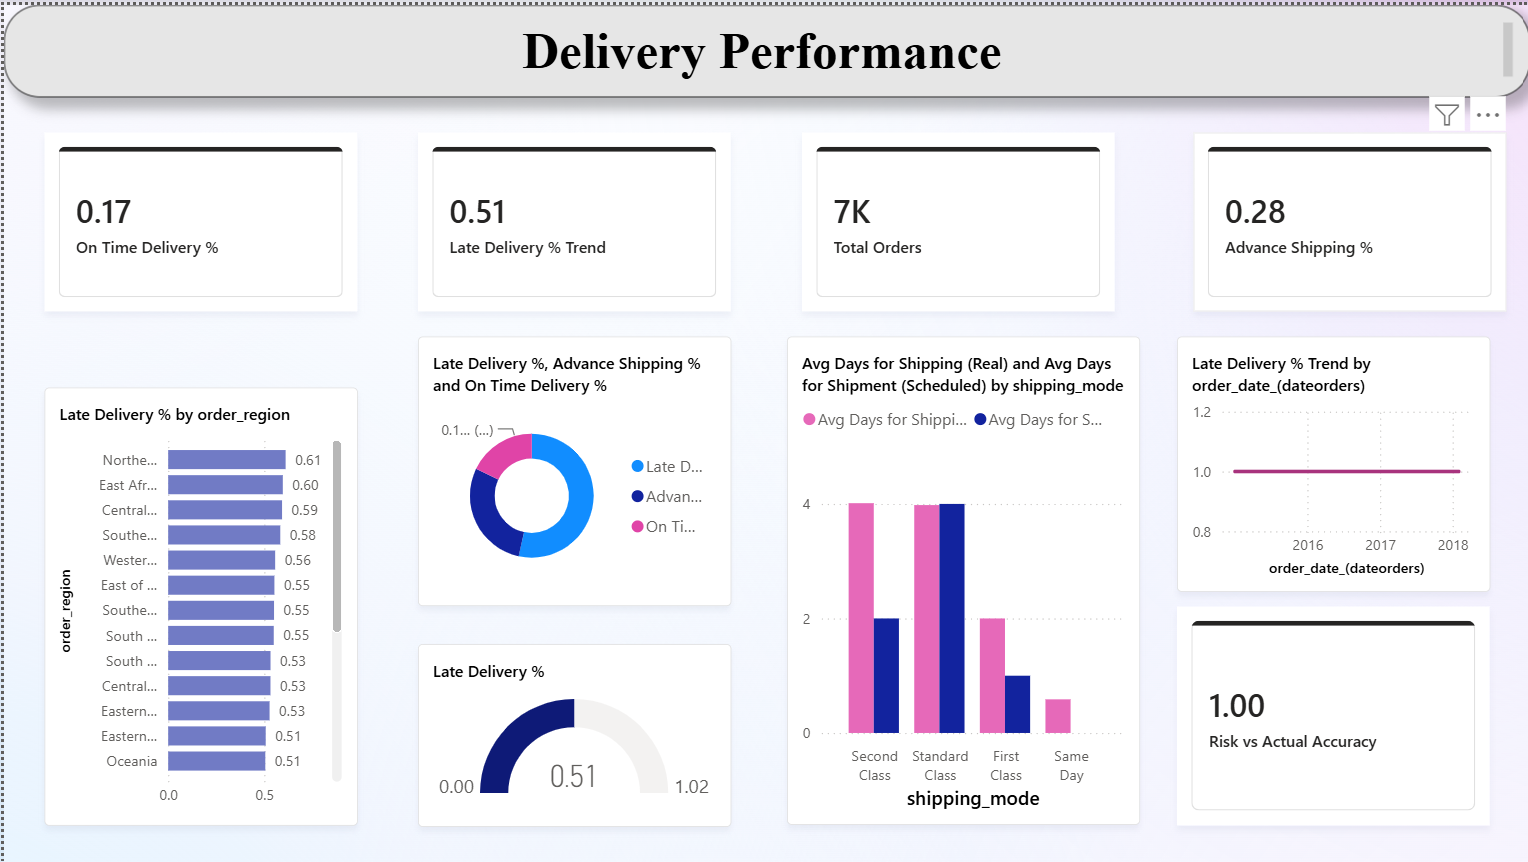

Layout of this report page (visuals, bound fields, positions):
{"tool":"powerbi","page":{"name":"Page 3","canvas":[1280,720],"ordinal":2},"visuals":[{"type":"textbox","box":[0,0,1280,77.3],"z":0},{"type":"cardVisual","fields":{"Data":["Fact_table.On Time Delivery %"]},"box":[33.5,106.4,262.4,150.2],"z":1},{"type":"cardVisual","fields":{"Data":["Fact_table.Late Delivery % Trend"]},"box":[347,106.4,262.4,150.2],"z":2},{"type":"cardVisual","fields":{"Data":["Fact_table.Total Orders"]},"box":[669.2,106.4,262.4,150.2],"z":3},{"type":"cardVisual","fields":{"Data":["Fact_table.Advance Shipping %"]},"box":[997.2,106.4,262.4,150.2],"z":4},{"type":"clusteredBarChart","fields":{"Y":["Fact_table.Late Delivery %"],"Category":["Fact_table.order_region"]},"box":[33.5,320.7,262.4,367.4],"z":5},{"type":"donutChart","fields":{"Y":["Fact_table.Late Delivery %","Fact_table.Advance Shipping %","Fact_table.On Time Delivery %"]},"box":[347,278.5,262.4,226],"z":6},{"type":"gauge","fields":{"Y":["Fact_table.Late Delivery %"]},"box":[347,535,262.4,153.1],"z":7},{"type":"clusteredColumnChart","fields":{"Category":["Fact_table.shipping_mode"],"Y":["Fact_table.Avg Days for Shipping (Real)","Fact_table.Avg Days for Shipment (Scheduled)"]},"box":[656,278.5,295.9,409.7],"z":8},{"type":"lineChart","fields":{"Y":["Fact_table.Late Delivery % Trend"],"Category":["Fact_table.order_date_(dateorders)"]},"box":[982.6,278.5,262.4,214.3],"z":9},{"type":"cardVisual","fields":{"Data":["Dim_Category.Risk vs Actual Accuracy"]},"box":[982.6,504.4,262.4,183.7],"z":10}]}

Visuals, with their boxes in screenshot pixels (x1, y1, x2, y2), scaled from the page's 1280x720 canvas onto the 1528x862 screenshot:
textbox: x1=0 y1=0 x2=1527 y2=93
cardVisual - Fact_table.On Time Delivery %: x1=40 y1=127 x2=353 y2=307
cardVisual - Fact_table.Late Delivery % Trend: x1=414 y1=127 x2=727 y2=307
cardVisual - Fact_table.Total Orders: x1=799 y1=127 x2=1112 y2=307
cardVisual - Fact_table.Advance Shipping %: x1=1190 y1=127 x2=1504 y2=307
clusteredBarChart - Fact_table.Late Delivery % x Fact_table.order_region: x1=40 y1=384 x2=353 y2=824
donutChart - Fact_table.Late Delivery % x Fact_table.Advance Shipping %: x1=414 y1=333 x2=727 y2=604
gauge - Fact_table.Late Delivery %: x1=414 y1=641 x2=727 y2=824
clusteredColumnChart - Fact_table.shipping_mode x Fact_table.Avg Days for Shipping (Real): x1=783 y1=333 x2=1136 y2=824
lineChart - Fact_table.Late Delivery % Trend x Fact_table.order_date_(dateorders): x1=1173 y1=333 x2=1486 y2=590
cardVisual - Dim_Category.Risk vs Actual Accuracy: x1=1173 y1=604 x2=1486 y2=824
